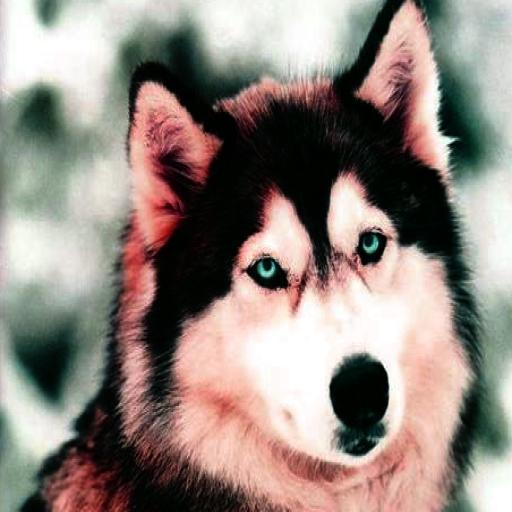dog_face: (127, 16, 447, 481)
